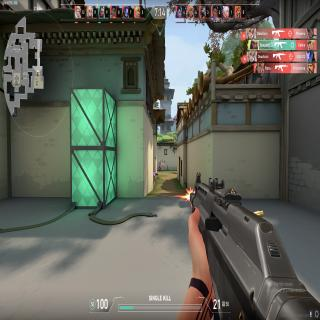ENEMY-BODY: (158, 160, 162, 172)
ENEMY-HEAD: (160, 160, 160, 162)
